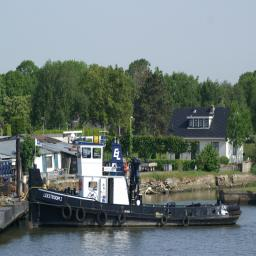tugboat: (29, 130, 244, 232)
